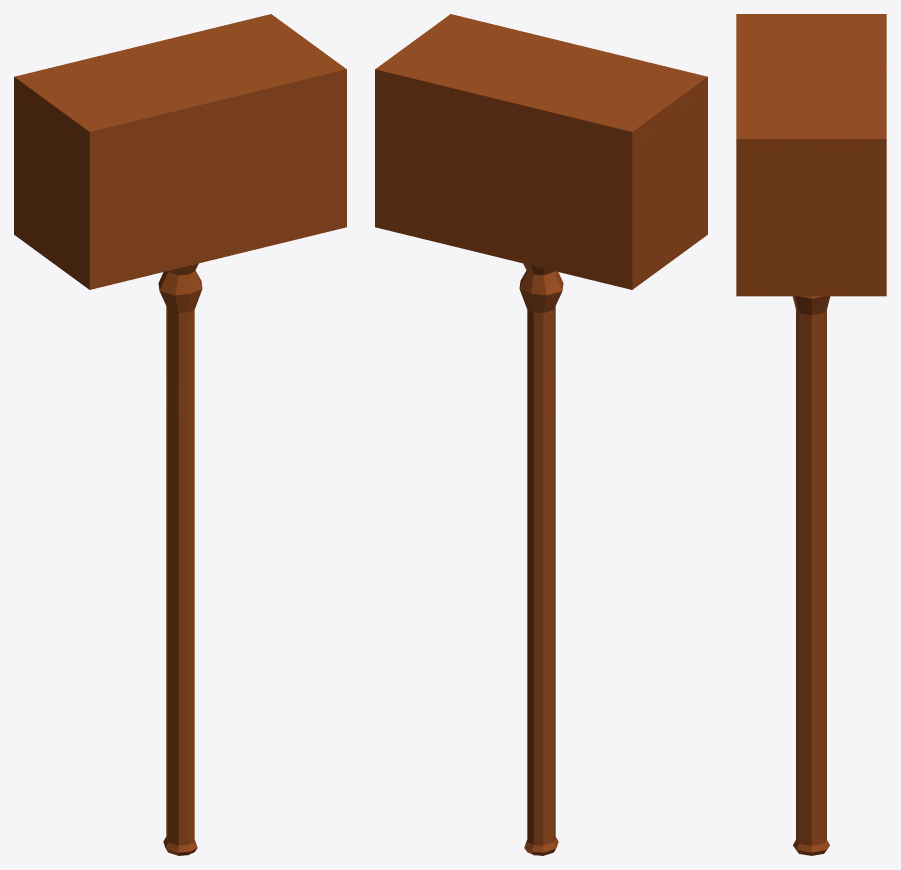
The model's file is renzohammer.obj.
3 views of the same model, side by side, from view 1: azimuth 30°, elevation 25°; view 2: azimuth 150°, elevation 25°; view 3: azimuth 270°, elevation 25° (orthographic).
Parts seen in each view (by area): view 1: Cube_Cube.001; view 2: Cube_Cube.001; view 3: Cube_Cube.001.
Part boxes in pixels (<box>): Cube_Cube.001: <box>14,14,346,855</box>; Cube_Cube.001: <box>375,14,707,855</box>; Cube_Cube.001: <box>736,14,886,855</box>.
Size of the model in its own units: 3.41 by 9.83 by 1.73.
